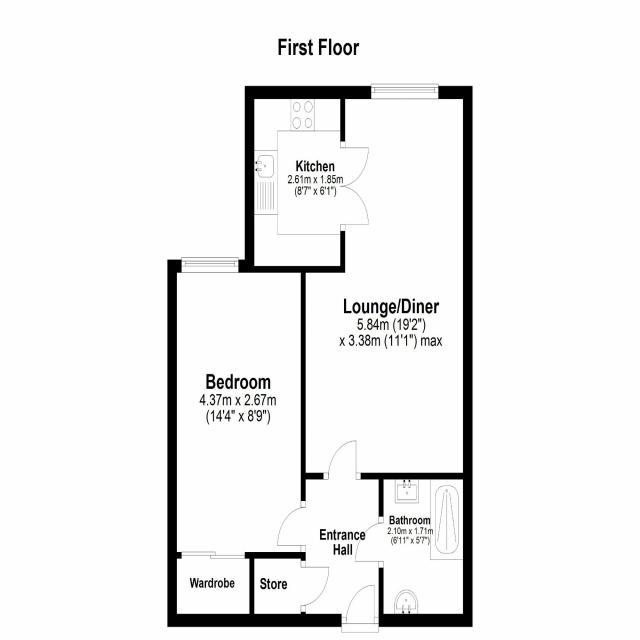DOOR: (344, 582, 376, 627), (353, 520, 384, 564), (326, 438, 358, 480), (276, 505, 306, 549)
DOUBLE DOOR: (339, 141, 371, 227)
ROOM: (301, 83, 474, 481), (167, 256, 306, 559), (245, 85, 370, 273)
WINDOW: (370, 83, 439, 100), (180, 256, 240, 274)
